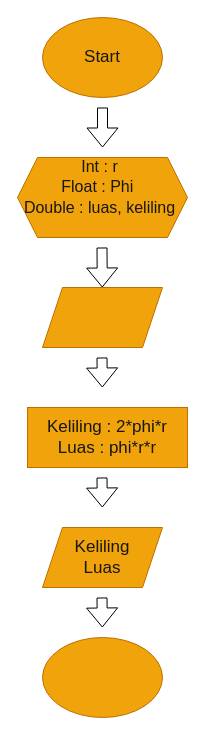
This 205x735 diagram has some shape labels left out. Each missing label, with the centre of its shape:
"End" goes at point (102, 677).
"Jari-jari phi" goes at point (102, 317).
